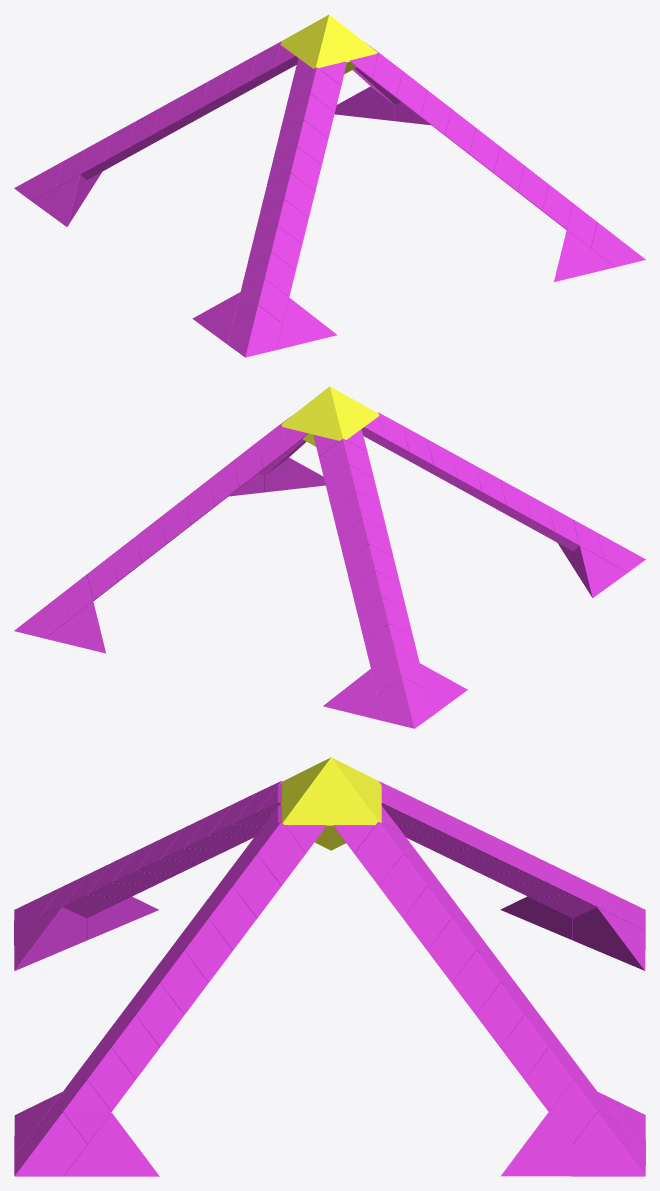
3 views of the same model, one above another, from view 1: azimuth 30°, elevation 25°; view 2: azimuth 150°, elevation 25°; view 3: azimuth 270°, elevation 25° (orthographic). The views are drawn at different scales.
Visible parts, largest first — view 1: S_Pyramid.mo.001, Hedra001__0; view 2: S_Pyramid.mo.001, Hedra001__0; view 3: S_Pyramid.mo.001, Hedra001__0.
Boxes of the visible parts, x1,y1,x2,y2 form: S_Pyramid.mo.001: [14, 41, 645, 357]; Hedra001__0: [280, 14, 377, 74]; S_Pyramid.mo.001: [14, 412, 645, 728]; Hedra001__0: [281, 386, 379, 446]; S_Pyramid.mo.001: [14, 781, 645, 1176]; Hedra001__0: [280, 757, 381, 850].
Size of the model in its own units: 300 by 150 by 300.
